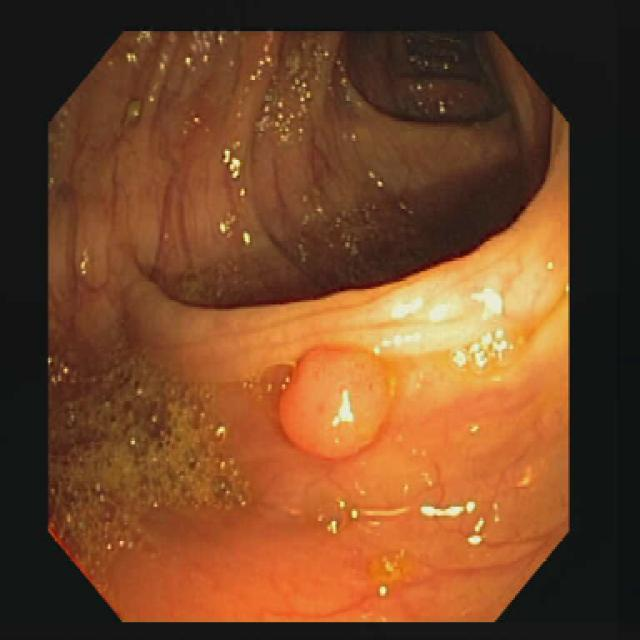tumor: (280, 347, 392, 458)
